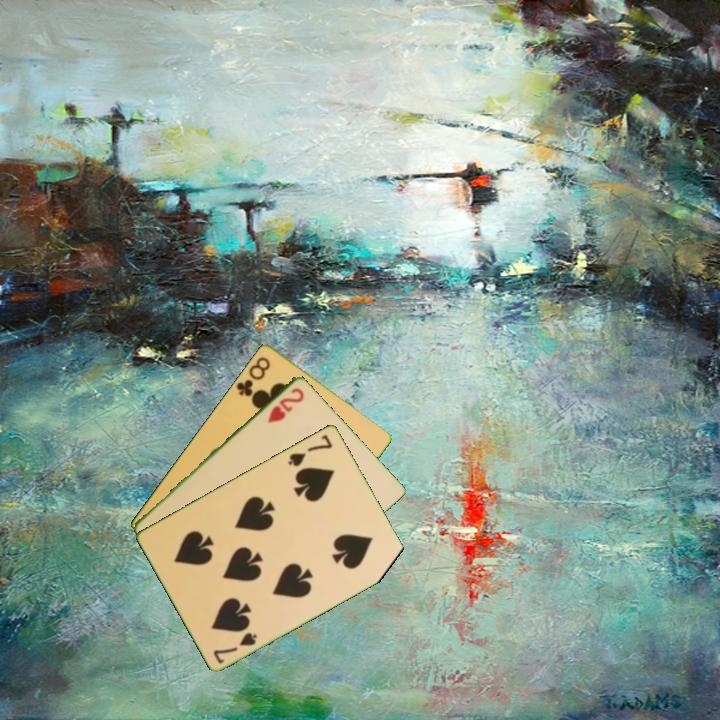2h: (264, 384, 307, 426)
7s: (284, 430, 336, 469), (210, 629, 260, 666)
8c: (233, 353, 273, 401)
